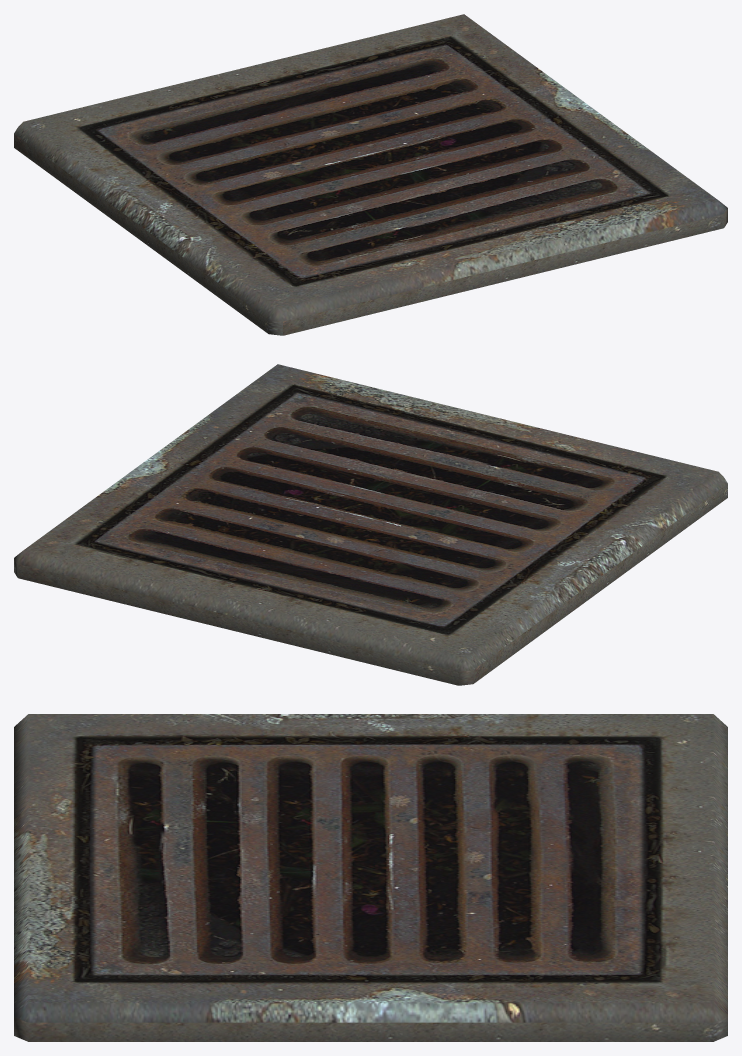
The model's file is manhole_cover_06.fbx.
The picture shows the model from 3 angles, top to bottom: view 1: azimuth 30°, elevation 25°; view 2: azimuth 150°, elevation 25°; view 3: azimuth 270°, elevation 25°; orthographic projection. The views are drawn at different scales.
Visible parts, largest first — view 1: manhole_cover_06; view 2: manhole_cover_06; view 3: manhole_cover_06.
Part boxes in pixels (bbox=[...]): manhole_cover_06: bbox=[14, 14, 727, 335]; manhole_cover_06: bbox=[14, 364, 727, 685]; manhole_cover_06: bbox=[14, 714, 727, 1041].
Size of the model in its own units: 1 by 0.0496 by 1.
